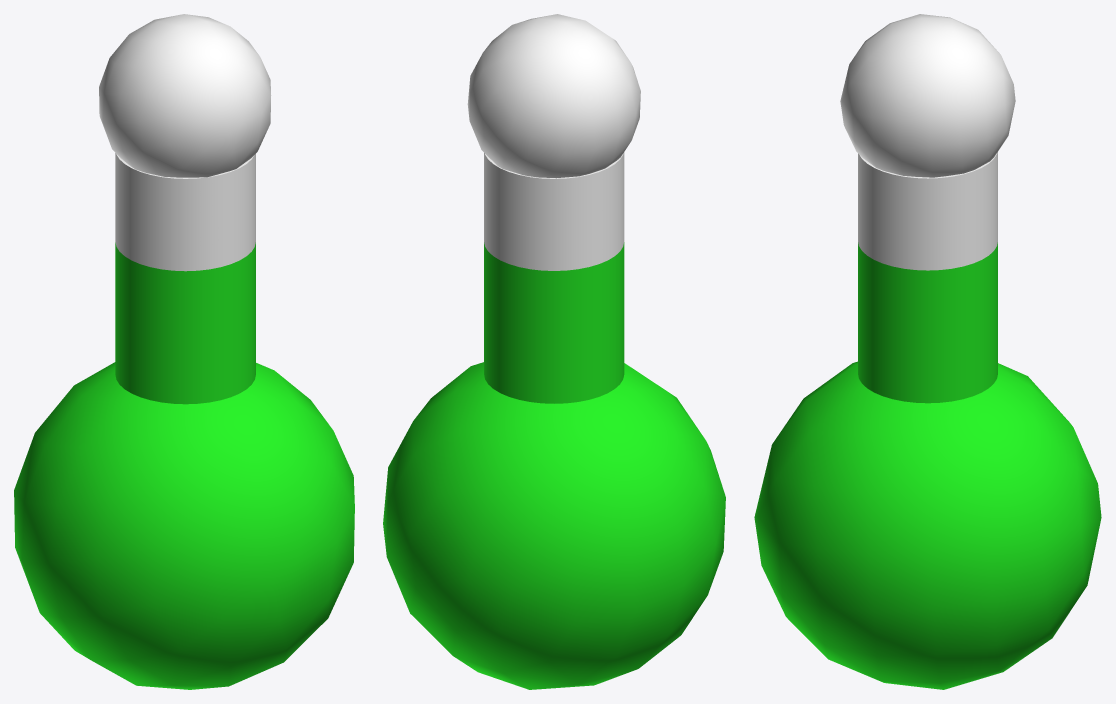
File: HCl.dae
The picture shows the model from 3 angles, left to right: view 1: azimuth 30°, elevation 25°; view 2: azimuth 150°, elevation 25°; view 3: azimuth 270°, elevation 25°; orthographic projection.
Parts seen in each view (by area): view 1: subnode_0, subnode_1, subnode_2, subnode_3; view 2: subnode_0, subnode_1, subnode_2, subnode_3; view 3: subnode_0, subnode_1, subnode_2, subnode_3.
Boxes of the visible parts, x1,y1,x2,y2 form: subnode_0: [14, 362, 354, 689]; subnode_1: [99, 14, 271, 177]; subnode_2: [115, 242, 255, 404]; subnode_3: [115, 153, 255, 271]; subnode_0: [383, 362, 725, 689]; subnode_1: [467, 14, 640, 178]; subnode_2: [484, 242, 624, 403]; subnode_3: [484, 152, 624, 270]; subnode_0: [754, 361, 1101, 689]; subnode_1: [840, 14, 1015, 177]; subnode_2: [858, 242, 997, 403]; subnode_3: [858, 152, 997, 270].
Size of the model in its own units: 0.9806 by 2.05 by 0.99.
